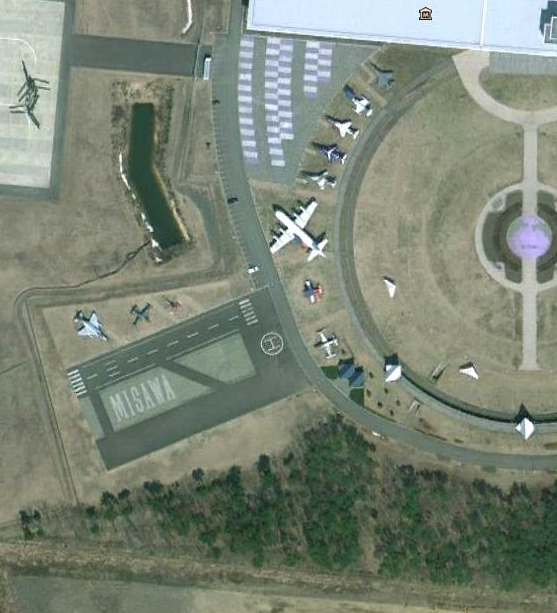heliport: (258, 332, 285, 355)
